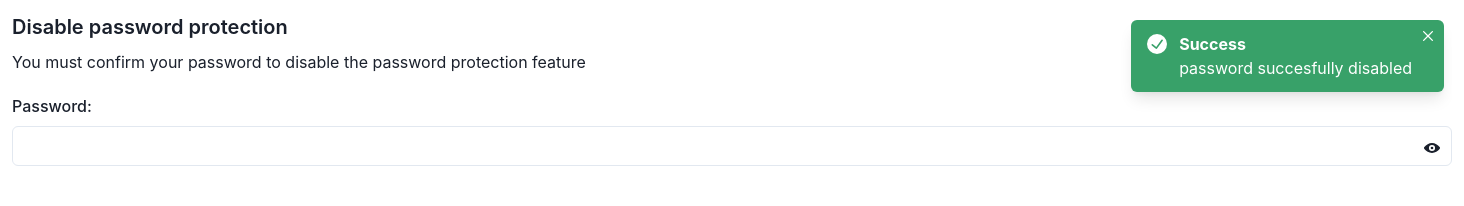
it: DisablePasswordForm › should handle submission errors
Type "longpassword" into the password field labelled "Password:" at (732, 146), box top-left (12, 126), bottom-right (1452, 166)
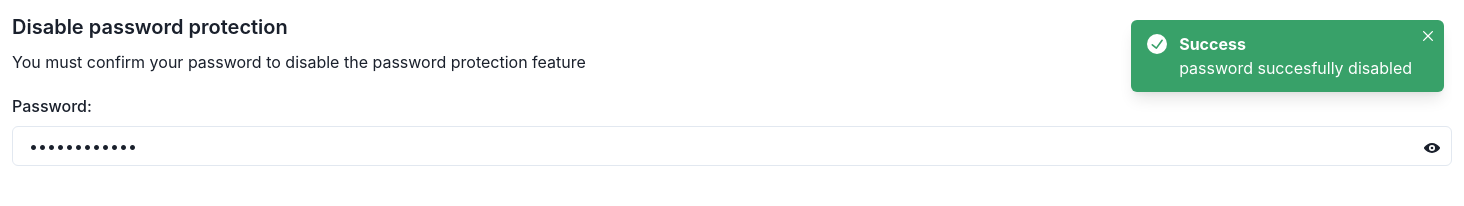
Submit the form, box top-left (12, 94), bottom-right (1452, 166)
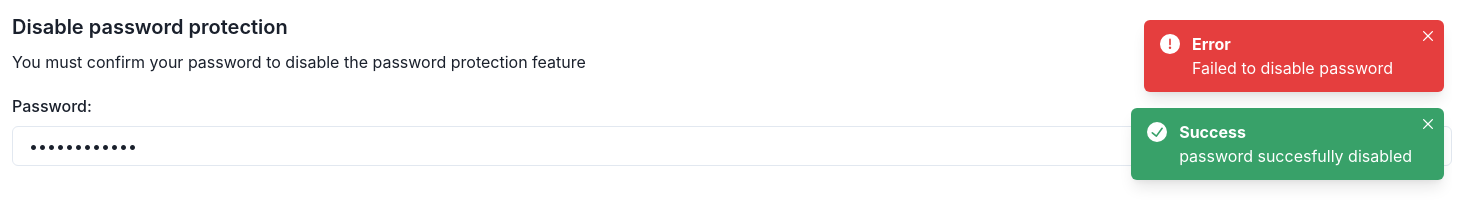
Result: the 1st text "Failed to disable password" is shown at top-left (1192, 56), bottom-right (1412, 80)
